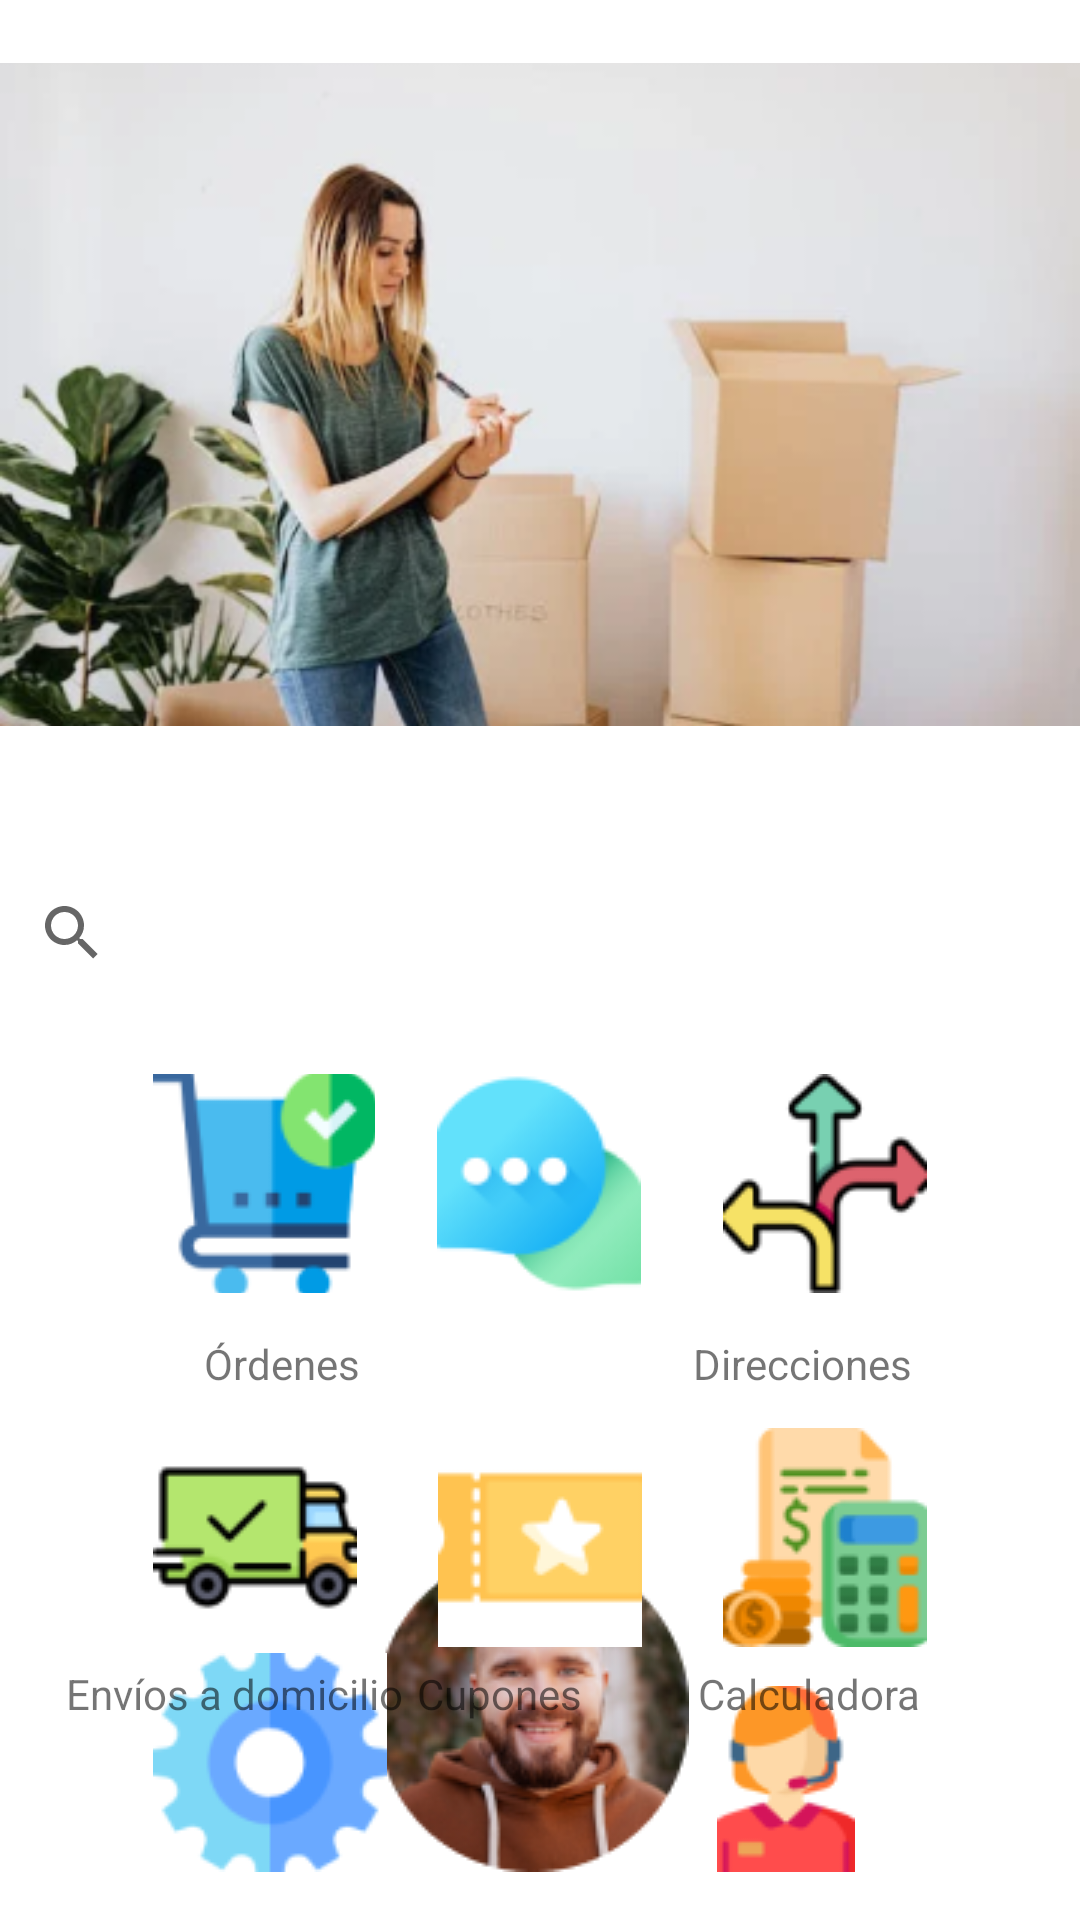

Icon click points for this 1080*1920 phone screenshot, format (x=x, y=y):
Chats: (x=539, y=1183)
customer service: (x=784, y=1779)
